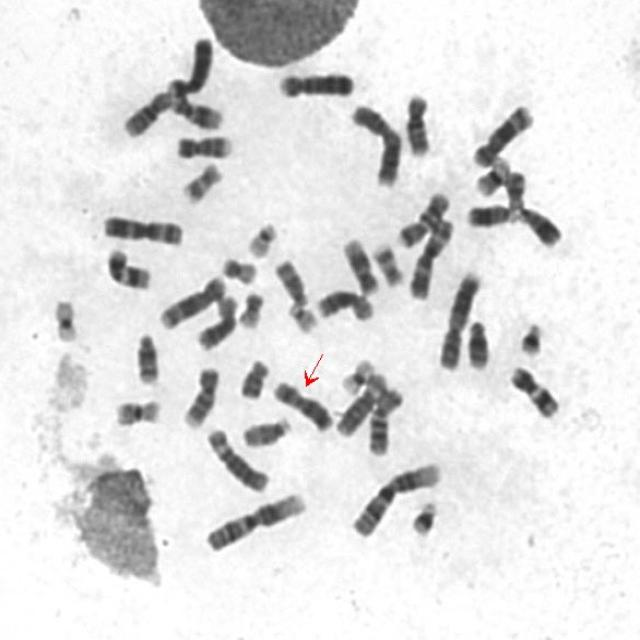A1: (345, 462, 442, 539), (198, 491, 308, 554)
A2: (434, 269, 486, 372), (345, 103, 404, 185)
A3: (405, 212, 458, 301), (97, 208, 188, 247)
B4: (162, 29, 214, 98), (273, 66, 357, 100)
B5: (466, 96, 536, 170), (154, 274, 226, 331)
C10: (122, 88, 175, 142), (399, 86, 434, 159)
C11: (504, 364, 564, 414), (101, 244, 153, 291)
C12: (334, 230, 384, 296), (166, 86, 229, 131)
C6: (201, 422, 272, 492), (331, 368, 391, 442)
C7: (391, 188, 452, 249), (363, 384, 406, 458)
C8: (192, 288, 242, 352), (309, 286, 375, 326)
C9: (184, 361, 226, 430), (171, 130, 235, 160)
D13: (513, 204, 565, 248), (458, 196, 516, 234)
D14: (462, 311, 498, 372), (130, 326, 162, 387)
D15: (270, 254, 312, 308), (237, 411, 293, 450)
E16: (109, 394, 164, 430), (473, 154, 518, 198)
E17: (177, 157, 230, 206), (368, 237, 410, 289)
E18: (502, 162, 538, 214), (235, 358, 277, 402)
F19: (336, 352, 384, 396), (47, 298, 78, 344)
F20: (217, 251, 260, 286), (234, 284, 264, 330)
G21: (405, 495, 447, 539), (514, 314, 548, 358)
G22: (241, 218, 283, 259), (283, 297, 318, 337)
X: (268, 378, 340, 436)
